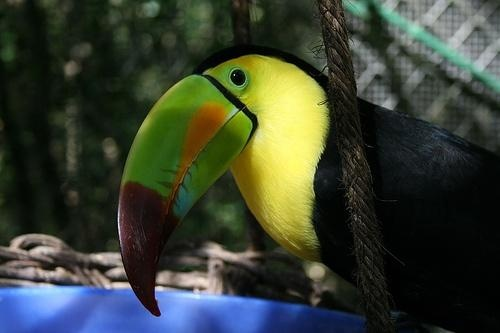bird: (115, 46, 500, 321)
